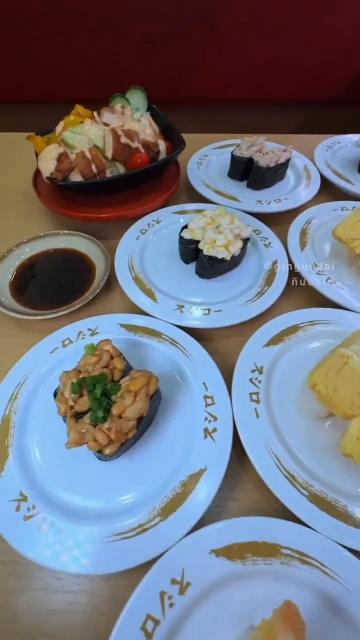janwhite: (0, 319, 233, 566), (104, 509, 360, 639), (237, 303, 328, 512), (124, 213, 276, 333), (200, 151, 316, 225), (308, 215, 349, 302), (331, 131, 360, 209)
